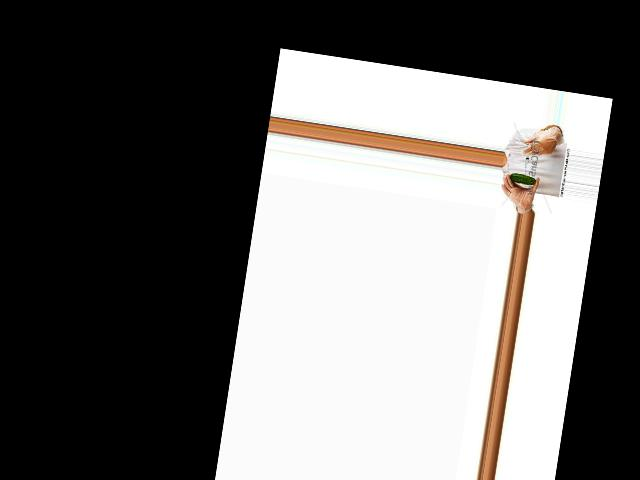cucumber: (509, 173, 537, 186)
